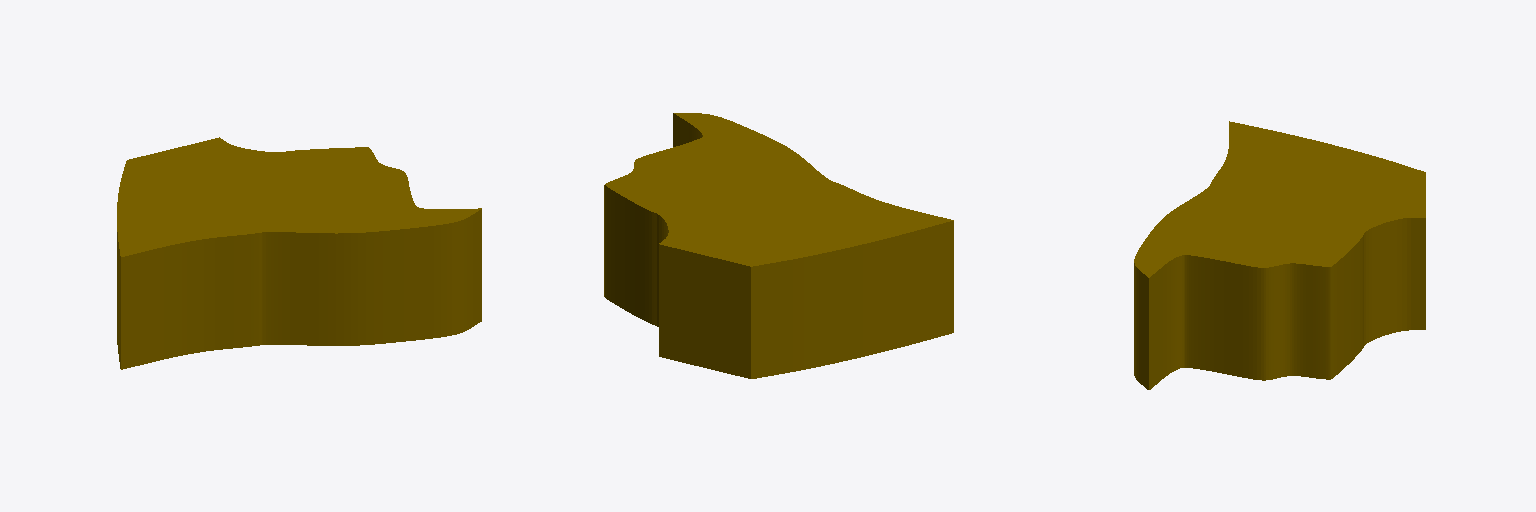
3 renders of one model, left to right at view 1: azimuth 30°, elevation 25°; view 2: azimuth 150°, elevation 25°; view 3: azimuth 270°, elevation 25°, orthographic.
Visible parts, largest first — view 1: Curve.012_path4196; view 2: Curve.012_path4196; view 3: Curve.012_path4196.
Part boxes in pixels (x1,y1,x2,y2): Curve.012_path4196: (117,137,481,369); Curve.012_path4196: (604,113,953,378); Curve.012_path4196: (1134,121,1425,389).
Size of the model in its own units: 0.2987 by 0.1 by 0.2346.